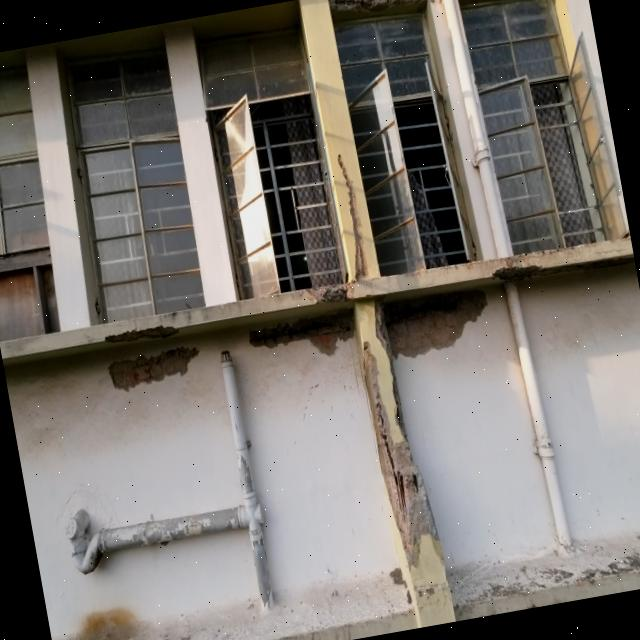Corrosion stain: (77, 608, 136, 640)
Incomplete Plaster Work: (383, 291, 487, 357), (249, 314, 352, 352), (108, 346, 198, 389)
Spalling: (354, 301, 453, 623), (338, 155, 366, 269)
